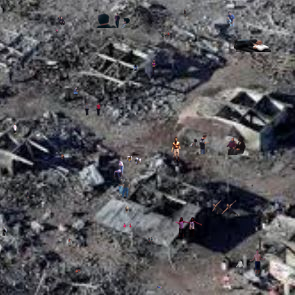Human: (175, 217, 202, 237), (184, 134, 210, 154), (96, 13, 130, 28), (209, 200, 240, 216), (234, 39, 272, 52), (249, 249, 266, 277), (222, 136, 246, 155), (171, 135, 181, 164), (84, 102, 102, 116), (118, 178, 130, 198), (113, 160, 124, 177), (155, 30, 170, 41), (226, 11, 235, 28), (150, 59, 158, 75), (127, 156, 141, 165), (236, 259, 244, 268), (58, 15, 65, 25), (122, 222, 132, 229), (2, 226, 8, 236), (13, 123, 17, 137), (73, 87, 79, 94), (125, 205, 129, 214), (60, 154, 66, 160), (133, 64, 138, 71), (148, 237, 153, 243), (75, 269, 82, 273), (68, 238, 72, 245), (26, 191, 29, 199), (156, 286, 162, 289), (184, 9, 186, 16), (55, 29, 58, 33), (160, 179, 162, 184), (251, 184, 253, 189)
